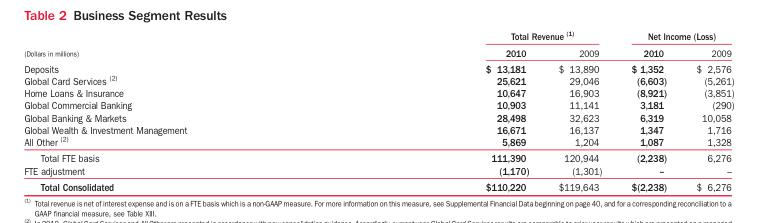table: (23, 29, 733, 192)
table column: (23, 29, 335, 192), (335, 29, 543, 192), (543, 29, 615, 192), (615, 29, 680, 192), (680, 29, 733, 192)
table column header: (23, 29, 733, 60)
table row: (23, 44, 733, 60), (23, 29, 733, 44), (23, 134, 733, 149), (23, 149, 733, 164), (23, 164, 733, 178), (23, 178, 733, 192), (23, 60, 733, 73), (23, 73, 733, 86), (23, 86, 733, 99), (23, 99, 733, 111), (23, 111, 733, 123), (23, 123, 733, 134)
table spanning cell: (23, 29, 335, 60), (335, 29, 615, 44), (615, 29, 733, 44)
